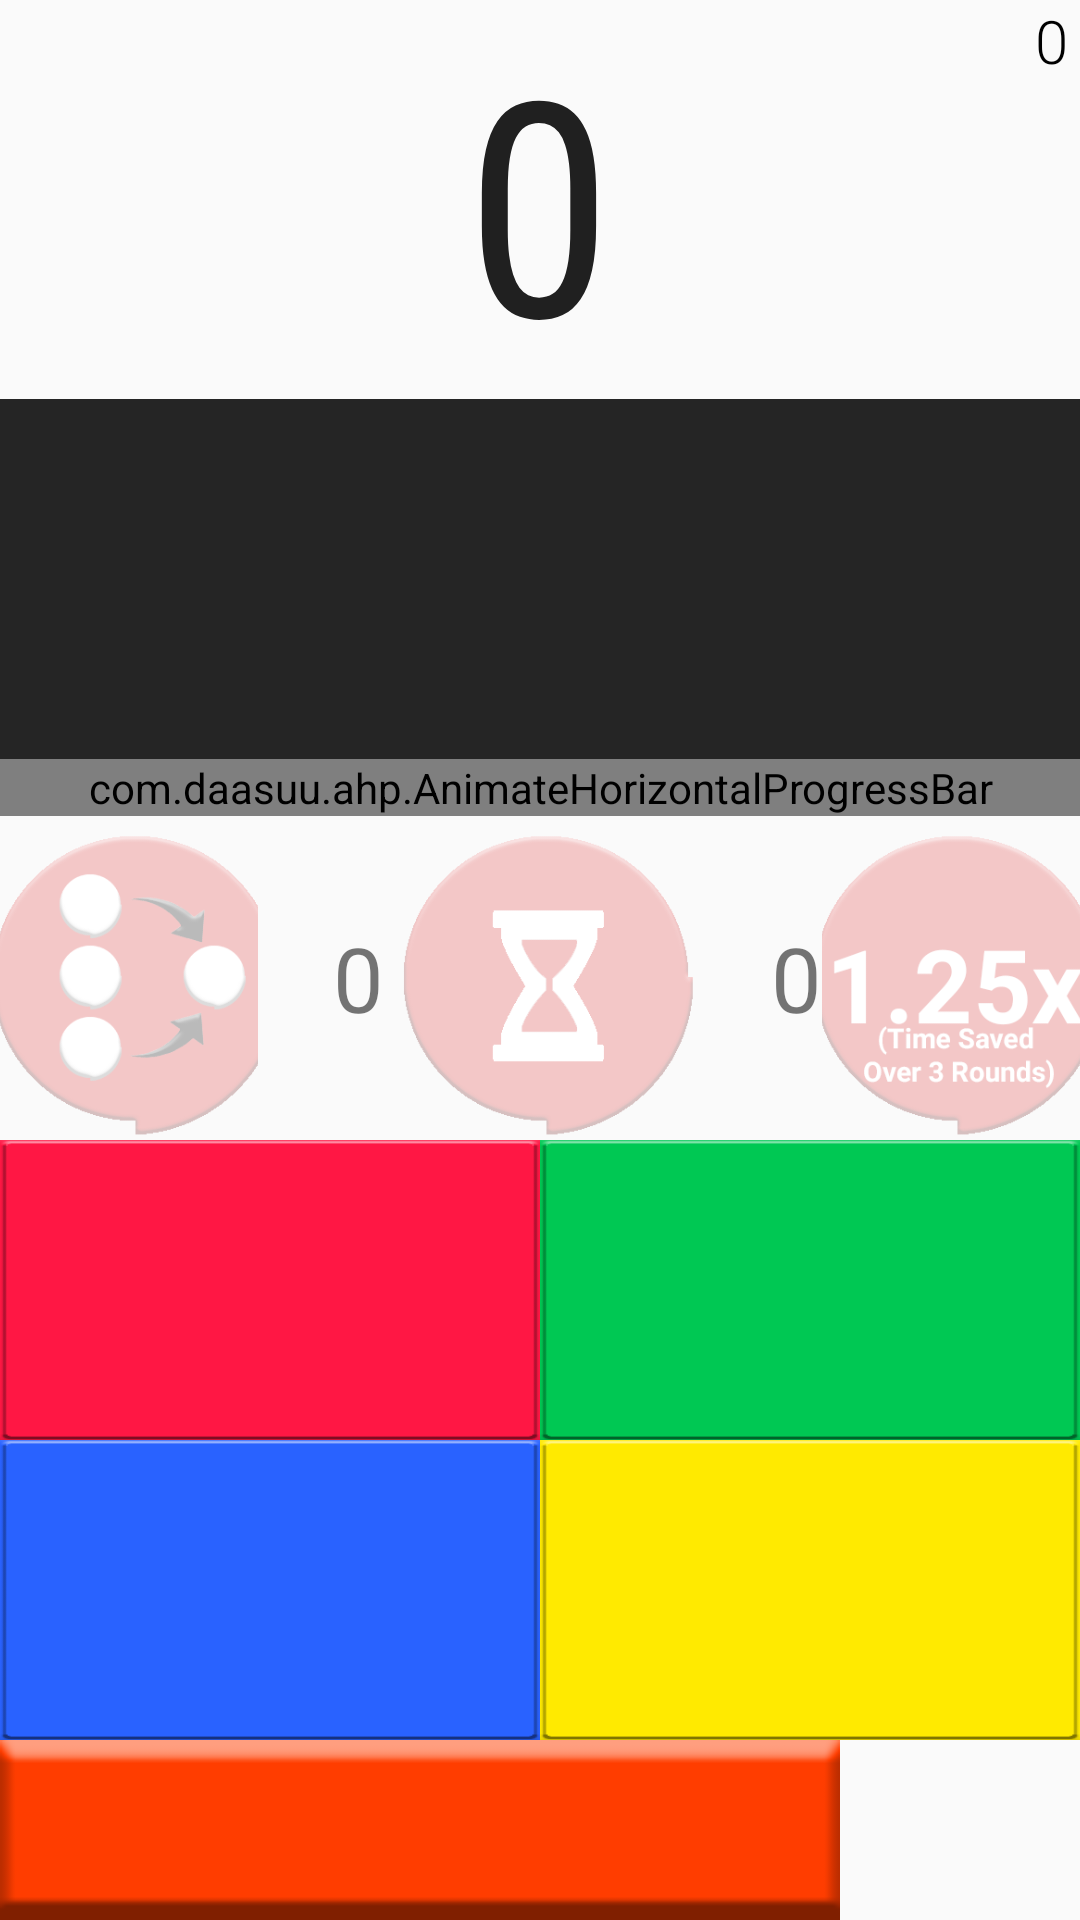

Named icons in this screenshot (1080px x 1920px) and their centers, (x,y):
powerup morph deactivated: (129,978)
